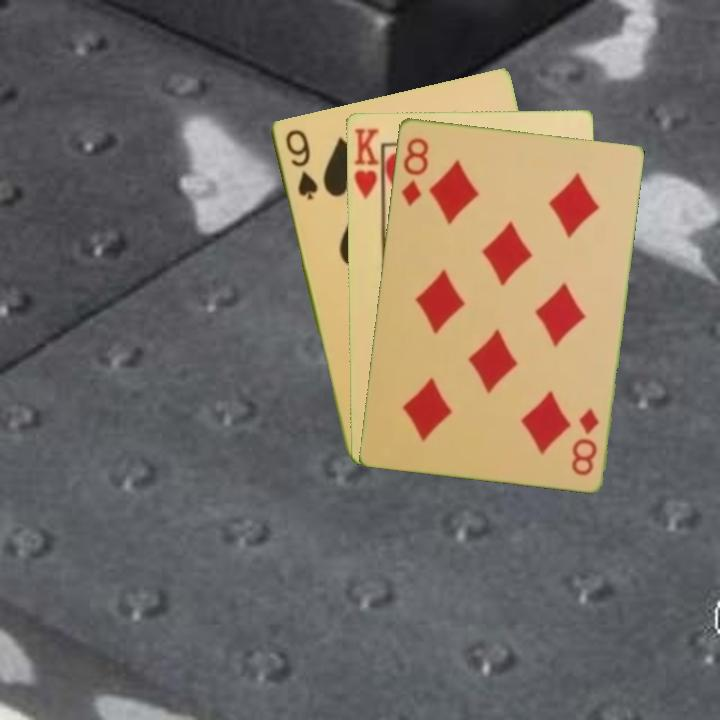8d: (397, 133, 431, 208), (567, 404, 601, 478)
9s: (281, 125, 320, 203)
Kh: (350, 124, 384, 206)
